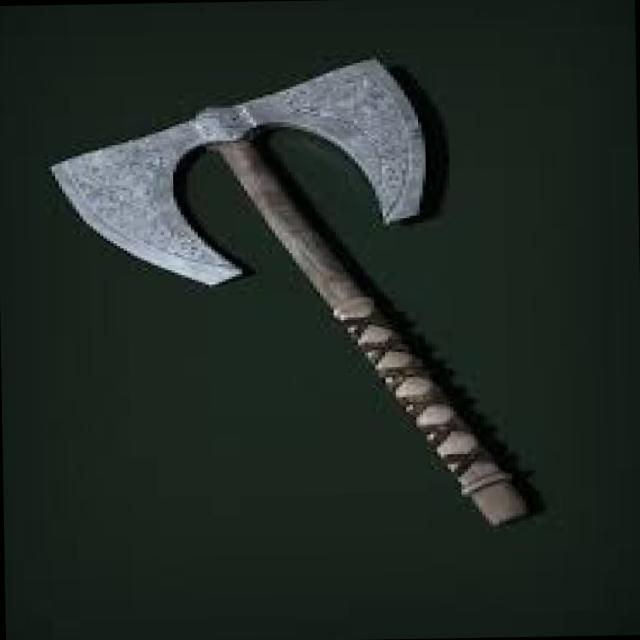Gun: (42, 45, 518, 537)
